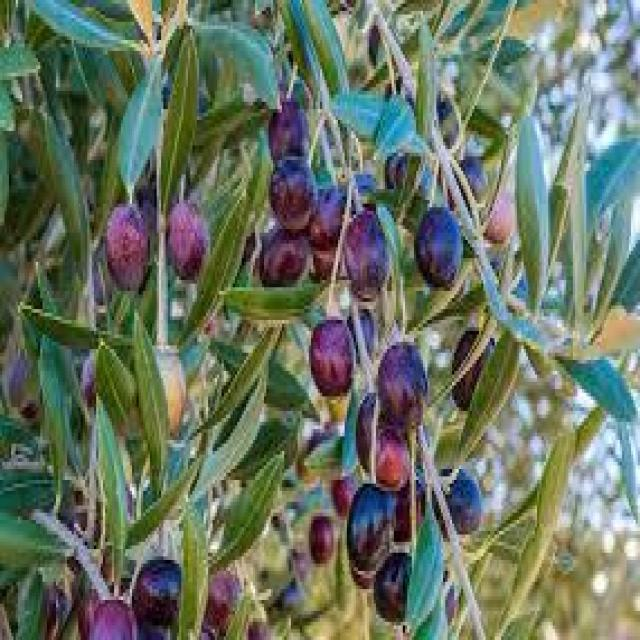Healthy: (346, 484, 398, 574), (341, 208, 391, 298), (378, 342, 427, 433), (414, 204, 462, 294), (107, 204, 152, 291), (311, 316, 354, 397), (271, 156, 318, 229), (167, 200, 206, 280)
